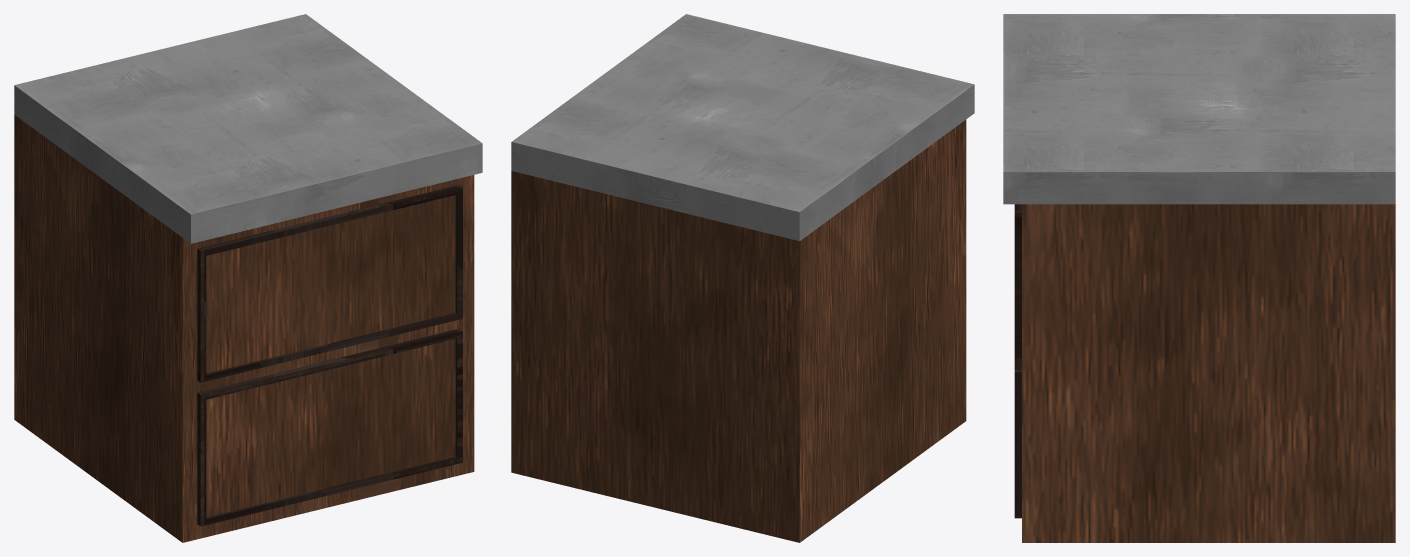
File: cabinet1.fbx
3 views of the same model, side by side, from view 1: azimuth 30°, elevation 25°; view 2: azimuth 150°, elevation 25°; view 3: azimuth 270°, elevation 25° (orthographic). The views are drawn at different scales.
Parts seen in each view (by area): view 1: cabinet.001; view 2: cabinet.001; view 3: cabinet.001.
Part boxes in pixels (bbox=[...]): cabinet.001: bbox=[14, 14, 482, 542]; cabinet.001: bbox=[511, 14, 974, 542]; cabinet.001: bbox=[1003, 14, 1395, 542].
Size of the model in its own units: 1.05 by 1 by 1.1.
Materials: 3 (3 with a texture image).
